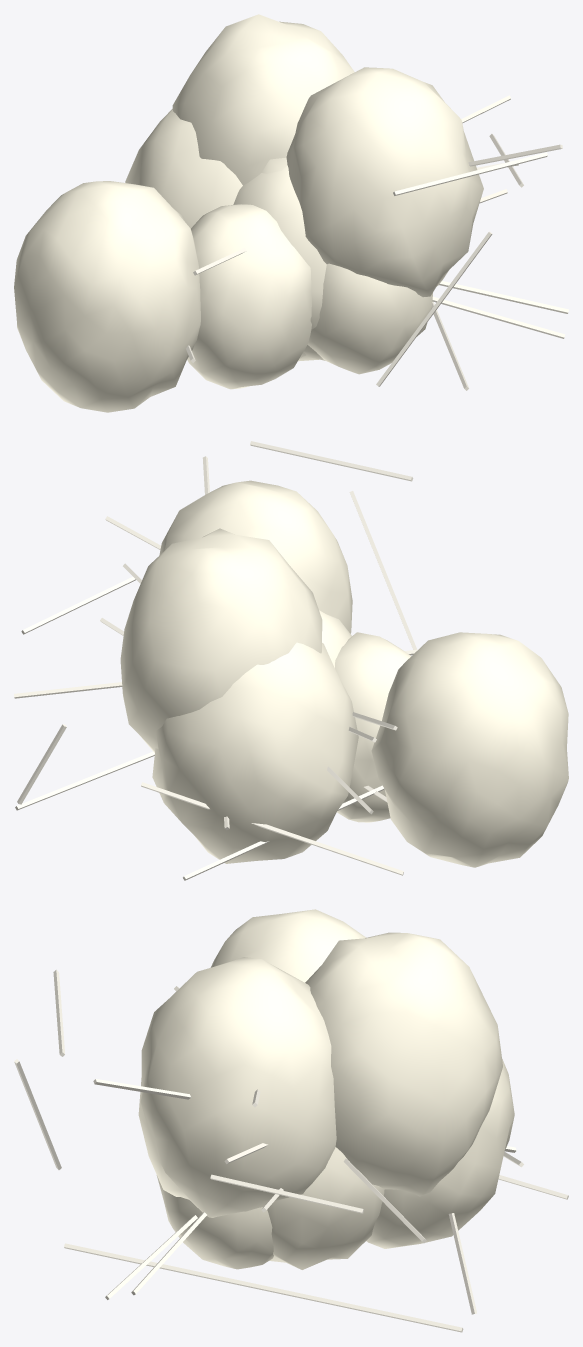
The model's file is SM_80s_EggSacs.glb.
The picture shows the model from 3 angles, top to bottom: view 1: azimuth 30°, elevation 25°; view 2: azimuth 150°, elevation 25°; view 3: azimuth 270°, elevation 25°; orthographic projection. The views are drawn at different scales.
Parts seen in each view (by area): view 1: SM_80s_EggSacs; view 2: SM_80s_EggSacs; view 3: SM_80s_EggSacs.
Boxes of the visible parts, box(x1,y1,x2,y2) form: SM_80s_EggSacs: box(14, 14, 568, 412); SM_80s_EggSacs: box(14, 441, 568, 880); SM_80s_EggSacs: box(14, 909, 568, 1332).
Bounding box in the file's own units: 0.6591 × 0.3838 × 0.591.
